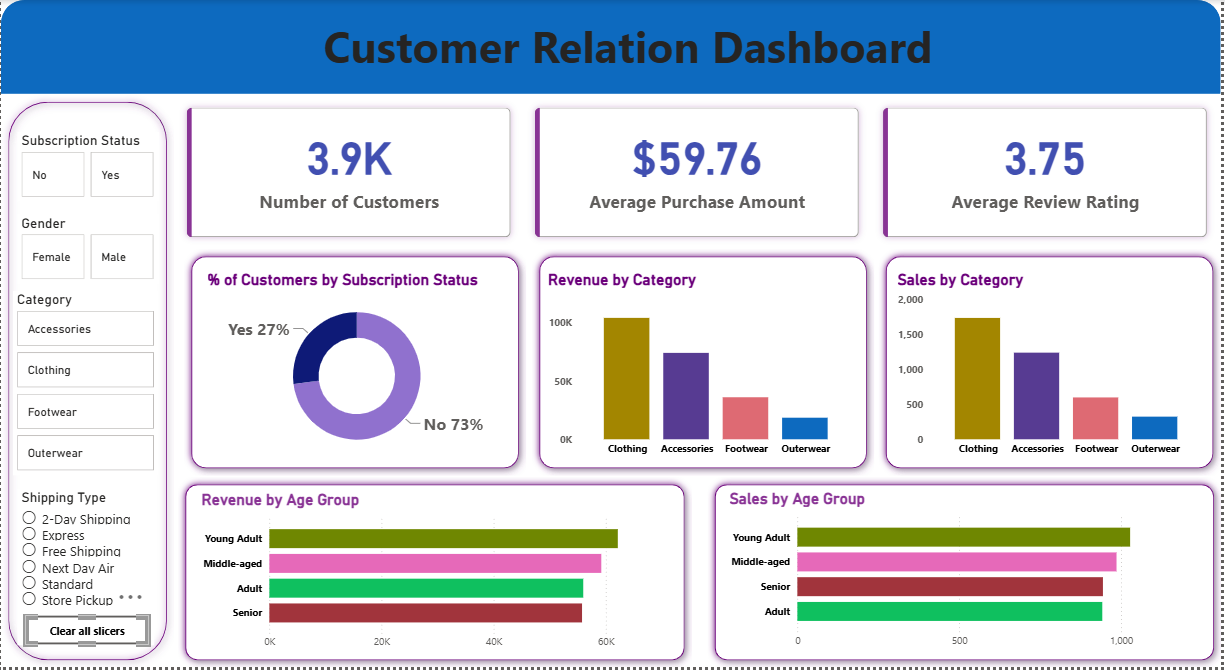

This screenshot's page, from the dashboard's own definition file:
{"tool":"powerbi","page":{"name":"Page 1","canvas":[1500,820],"ordinal":0},"visuals":[{"type":"cardVisual","fields":{"Data":["public customer.Number of Customers","public customer.Average Purchase Amount","public customer.Average Review Rating"]},"box":[212.9,115.3,1286.5,191.6],"z":2000},{"type":"shape","box":[218.3,585.6,631.7,234.2],"z":2500,"group":"g1"},{"type":"shape","box":[0,0,1499.4,115.3],"z":3000},{"type":"textbox","box":[42.4,14.8,1456.9,101.4],"z":4000},{"type":"shape","box":[225.4,307,420.5,278.6],"z":5000},{"type":"donutChart","title":"% of Customers by Subscription Status","fields":{"Category":["public customer.subscription_status"],"Y":["CountNonNull(public customer.customer_id)"]},"box":[248.4,331.8,376.2,237.8],"z":6000},{"type":"shape","box":[1078.9,307,420.5,278.6],"z":7000},{"type":"shape","box":[652.1,307,420.5,278.6],"z":8000},{"type":"clusteredColumnChart","title":"Revenue by Category","fields":{"Y":["Sum(public customer.purchase_amount)"],"Category":["public customer.category"]},"box":[667.2,331.8,385.1,237.8],"z":9000},{"type":"clusteredColumnChart","title":"Sales by Category","fields":{"Y":["CountNonNull(public customer.customer_id)"],"Category":["public customer.category"]},"box":[1096.6,331.8,385.1,237.8],"z":10000},{"type":"shape","box":[0,115.3,212.9,704.5],"z":11000},{"type":"advancedSlicerVisual","fields":{"Values":["public customer.subscription_status"]},"box":[19.5,161.5,173.9,85.2],"z":12000},{"type":"advancedSlicerVisual","fields":{"Values":["public customer.gender"]},"box":[19.5,264.4,173.9,85.2],"z":13000},{"type":"advancedSlicerVisual","fields":{"Values":["public customer.category"]},"box":[14.8,357.8,178.9,226.8],"z":14000},{"type":"listSlicer","fields":{"Values":["public customer.shipping_type"]},"box":[20.3,601.2,167.8,191.8],"z":15000},{"type":"shape","box":[867.7,585.6,631.7,234.2],"z":16000},{"type":"clusteredBarChart","title":"Sales by Age Group","fields":{"Y":["CountNonNull(public customer.customer_id)"],"Category":["public customer.age_group"]},"box":[890.8,601.5,585.6,204.1],"z":17000},{"type":"clusteredBarChart","title":"Revenue by Age Group","fields":{"Y":["Sum(public customer.purchase_amount)"],"Category":["public customer.age_group"]},"box":[241.4,601.6,585.6,204.1],"z":17500,"group":"g1"},{"type":"group","id":"g1","title":"Group 1","box":[218.3,585.6,631.7,234.2],"z":17501},{"type":"actionButton","box":[29.5,756.1,153.1,36.9],"z":17502}]}

Visuals, with their boxes in screenshot pixels (x1, y1, x2, y2), scaled from the page's 1500x820 canvas onto the 1225x671 screenshot:
cardVisual - public customer.Number of Customers x public customer.Average Purchase Amount: BBox(174, 94, 1224, 251)
shape: BBox(178, 479, 694, 670)
shape: BBox(0, 0, 1224, 94)
textbox: BBox(35, 12, 1224, 95)
shape: BBox(184, 251, 527, 479)
"% of Customers by Subscription Status" donutChart: BBox(203, 272, 510, 466)
shape: BBox(881, 251, 1224, 479)
shape: BBox(533, 251, 876, 479)
"Revenue by Category" clusteredColumnChart: BBox(545, 272, 859, 466)
"Sales by Category" clusteredColumnChart: BBox(896, 272, 1210, 466)
shape: BBox(0, 94, 174, 670)
advancedSlicerVisual - public customer.subscription_status: BBox(16, 132, 158, 202)
advancedSlicerVisual - public customer.gender: BBox(16, 216, 158, 286)
advancedSlicerVisual - public customer.category: BBox(12, 293, 158, 478)
listSlicer - public customer.shipping_type: BBox(17, 492, 154, 649)
shape: BBox(709, 479, 1224, 670)
"Sales by Age Group" clusteredBarChart: BBox(727, 492, 1206, 659)
"Revenue by Age Group" clusteredBarChart: BBox(197, 492, 675, 659)
"Group 1" group: BBox(178, 479, 694, 670)
actionButton: BBox(24, 619, 149, 649)
